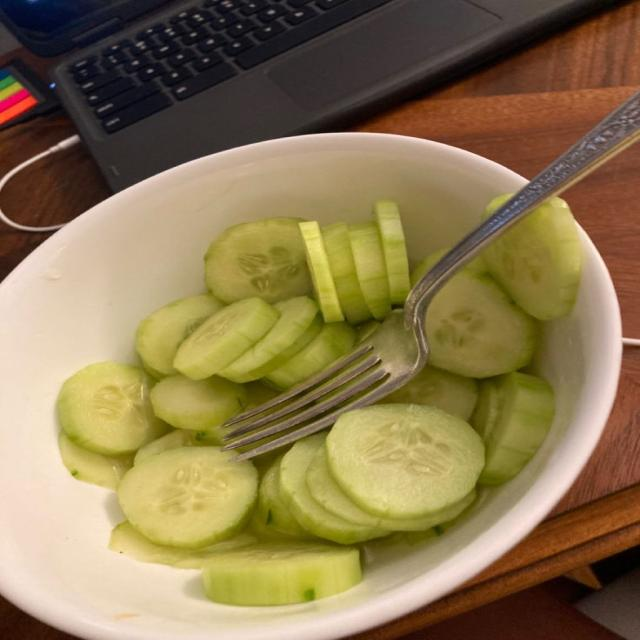cucumber sliced: (326, 404, 484, 518), (118, 447, 257, 548), (307, 447, 474, 531), (280, 434, 389, 544), (483, 198, 581, 320), (427, 271, 538, 378), (57, 362, 168, 456), (203, 543, 361, 606), (205, 218, 312, 302), (477, 372, 554, 485), (174, 298, 279, 379), (219, 297, 318, 382), (135, 295, 223, 379), (108, 521, 257, 568), (265, 323, 355, 389), (381, 365, 478, 421), (151, 375, 246, 431), (322, 222, 371, 325), (300, 221, 344, 322), (255, 456, 309, 538), (59, 431, 133, 489), (348, 223, 391, 320), (374, 201, 409, 305), (134, 429, 199, 464), (469, 378, 503, 441), (411, 247, 450, 285), (357, 320, 380, 341)
